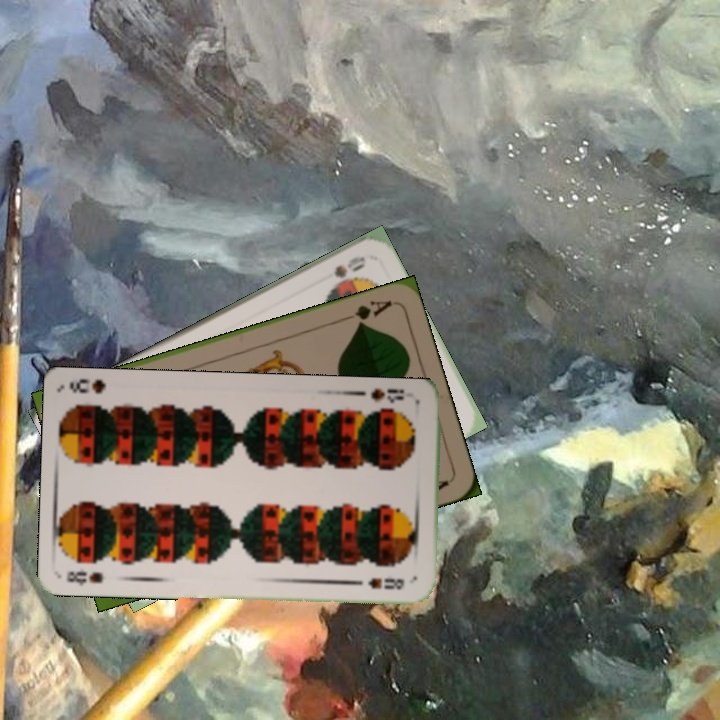GA: (338, 296, 395, 328)
S8: (62, 567, 105, 588), (366, 384, 406, 406)
SO: (330, 252, 369, 281)
